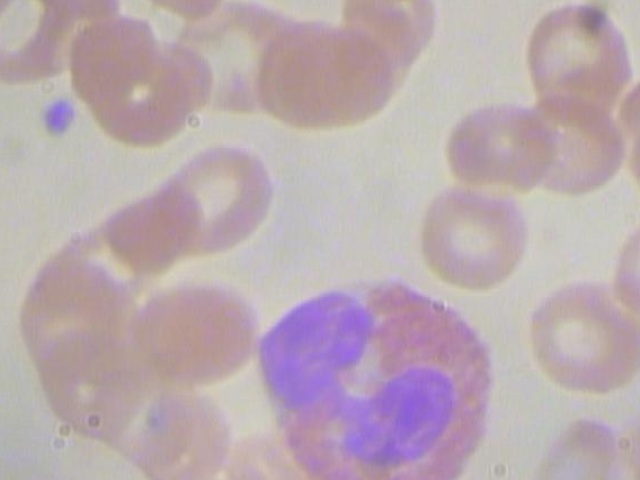Platelets: (32, 91, 85, 144)
RBC: (254, 14, 394, 136), (125, 269, 264, 391), (149, 138, 275, 259), (411, 173, 537, 294), (512, 0, 638, 117), (522, 276, 640, 397), (438, 94, 556, 196), (0, 0, 85, 83), (116, 0, 234, 25)
WBC: (251, 263, 505, 480)
